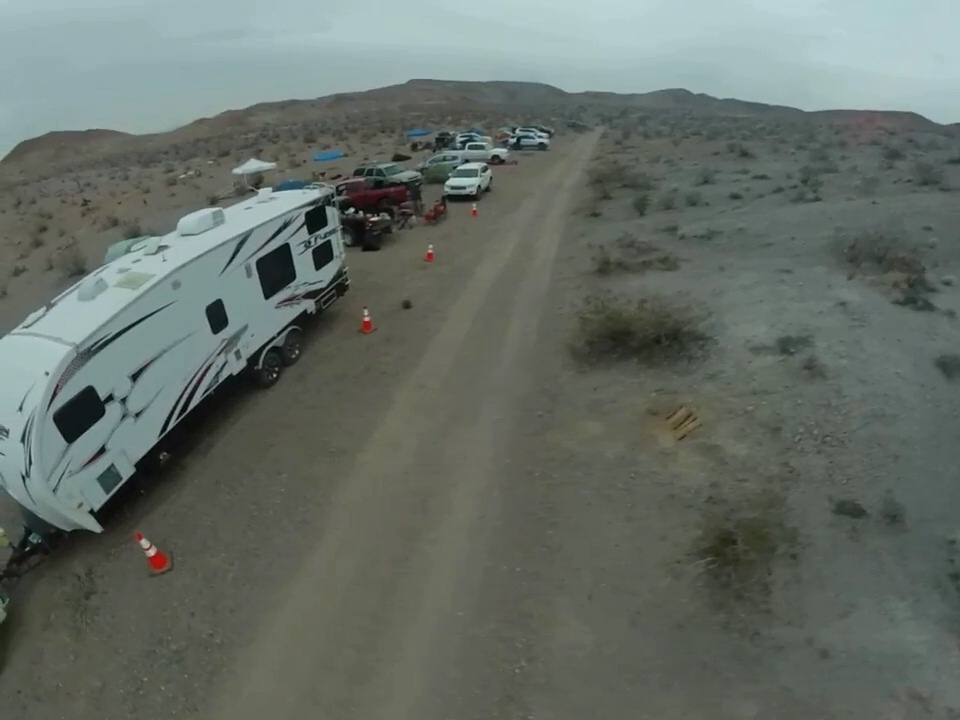araba: (444, 160, 496, 199), (353, 161, 428, 184)
kamyonet: (445, 140, 512, 164)
otobus: (1, 179, 353, 544)
